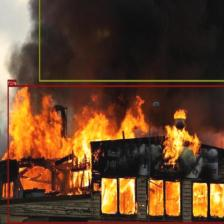fire: (7, 85, 224, 223)
smoke: (39, 0, 224, 81)
